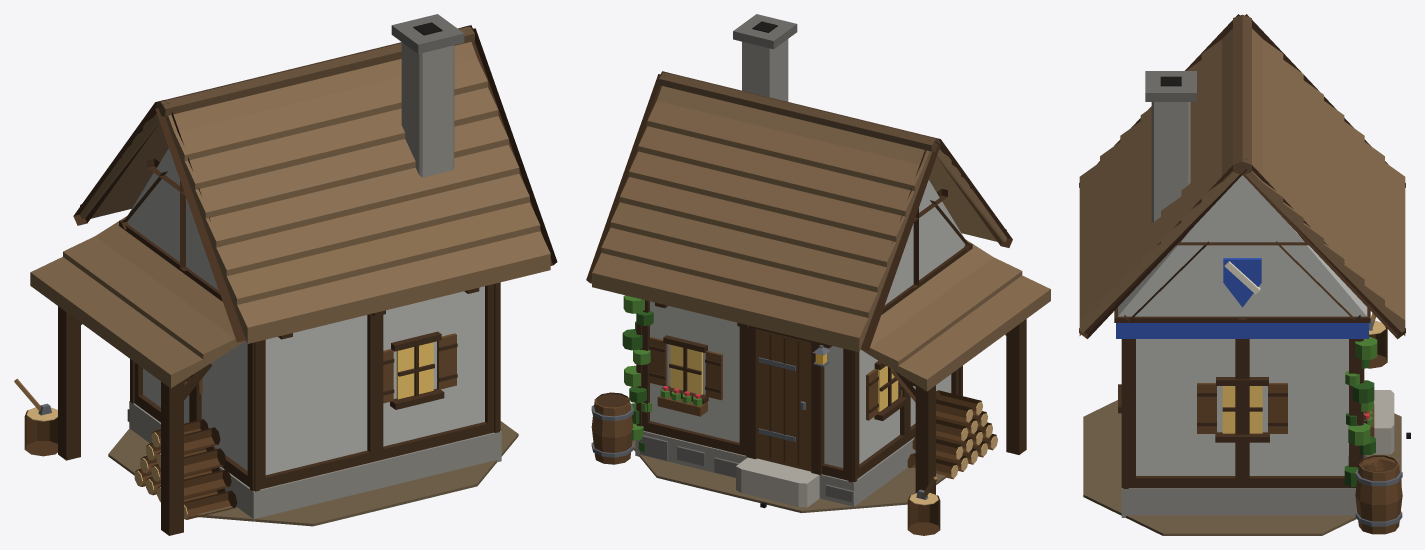
The model's file is house_3.obj.
3 views of the same model, side by side, from view 1: azimuth 30°, elevation 25°; view 2: azimuth 150°, elevation 25°; view 3: azimuth 270°, elevation 25° (orthographic). The views are drawn at different scales.
Parts seen in each view (by area): view 1: Roof, Walls, Shed.Roof, Plinth, Timber.Post, Shed.Post, Ground, Chimney, Gable.Barge, Firewood, Roof.Ridge, Gable (+7 smaller); view 2: Roof, Shed.Roof, Walls, Door, Timber.Post, Shed.Post, Roof.Ridge, Ground, Gable.Barge, Plinth, Gable, Door.Frame (+16 smaller); view 3: Roof, Walls, Gable, Ground, Plinth, Timber.Post, Chimney, Band, Gable.Barge, Roof.Ridge, Barrel, Timber.Sill (+15 smaller).
Boxes of the visible parts, x1,y1,x2,y2 form: Roof: [80, 42, 550, 343]; Walls: [143, 286, 484, 474]; Shed.Roof: [30, 216, 245, 388]; Plinth: [129, 401, 501, 521]; Timber.Post: [130, 282, 500, 491]; Shed.Post: [58, 306, 183, 535]; Ground: [108, 421, 518, 526]; Chimney: [401, 42, 454, 177]; Gable.Barge: [73, 25, 557, 342]; Firewood: [135, 419, 237, 519]; Roof.Ridge: [155, 26, 474, 116]; Gable: [127, 148, 218, 290]; Roof: [592, 86, 1006, 352]; Shed.Roof: [861, 239, 1050, 391]; Walls: [650, 301, 951, 467]; Door: [757, 329, 811, 471]; Timber.Post: [636, 300, 962, 482]; Shed.Post: [915, 319, 1026, 494]; Roof.Ridge: [658, 72, 940, 151]; Ground: [632, 440, 945, 513]; Gable.Barge: [586, 71, 1012, 350]; Plinth: [635, 431, 915, 508]; Gable: [885, 180, 965, 304]; Door.Frame: [746, 325, 824, 475]; Roof: [1079, 28, 1405, 335]; Walls: [1136, 339, 1348, 475]; Gable: [1118, 175, 1367, 316]; Ground: [1083, 400, 1401, 535]; Plinth: [1121, 488, 1356, 517]; Timber.Post: [1121, 339, 1363, 488]; Chimney: [1151, 102, 1190, 222]; Band: [1116, 323, 1368, 338]; Gable.Barge: [1079, 14, 1405, 339]; Roof.Ridge: [1233, 14, 1251, 175]; Barrel: [1355, 457, 1402, 534]; Timber.Sill: [1128, 476, 1352, 488].
Size of the model in its own units: 4.82 by 5.02 by 3.65.
